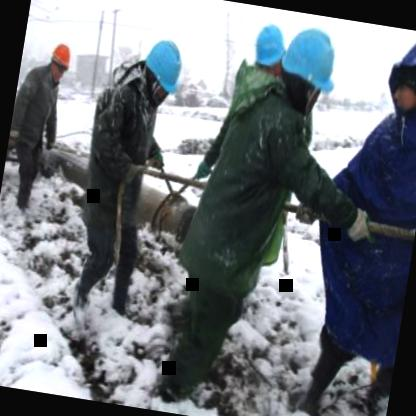helmet: (275, 18, 346, 122), (133, 27, 191, 118), (248, 17, 291, 80), (44, 38, 76, 86)
